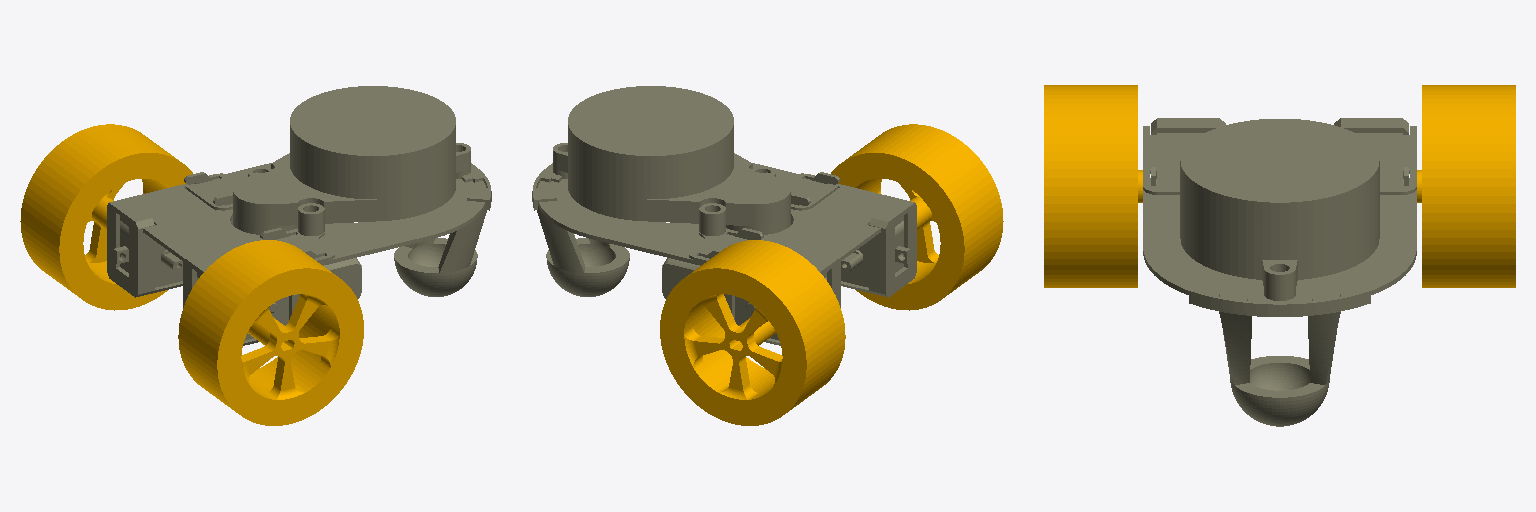
The robot description file, URDF, robot "little red rover":
<robot name="little red rover">
<link name="base_link"></link>
<joint name="base_link_to_base" type="fixed">
<parent link="base_link"/>
<child link="robot_body" />
<origin rpy="0.0 0 0" xyz="0 0 0"/>
</joint>
<link name="robot_body">
<collision>
<origin xyz="0.086199999999999998845 0 0.0013000000000000018919" rpy="5.9164567891575902922e-31 6.1629758220391558245e-32 -3.141592653589793116" />
<geometry>
<mesh filename="package://little_red_rover/description/rover/skid.stl"/>
</geometry>
</collision>
<collision>
<origin xyz="0.011300000000000209183 0.027499999999999965444 -0.013199999999999803904" rpy="9.992007221626410836e-16 -1.570796326794896336 0" />
<geometry>
<mesh filename="package://little_red_rover/description/rover/tt_motor_mount.stl"/>
</geometry>
</collision>
<collision>
<origin xyz="0.086199999999999998845 0 0.0025999999999999990133" rpy="-3.141592653589793116 6.1629758220391558245e-32 -3.141592653589793116" />
<geometry>
<mesh filename="package://little_red_rover/description/rover/motor_attachment_shim.stl"/>
</geometry>
</collision>
<collision>
<origin xyz="0.011199999999999940906 0.027499999999999948097 -0.013199999999999987785" rpy="4.8461212225579072311e-32 -1.570796326794896558 0" />
<geometry>
<mesh filename="package://little_red_rover/description/rover/motor_mount_shim.stl"/>
</geometry>
</collision>
<collision>
<origin xyz="0.086199999999999998845 0 0.0016000000000000000767" rpy="5.9164567891575902922e-31 6.1629758220391558245e-32 -3.141592653589793116" />
<geometry>
<mesh filename="package://little_red_rover/description/rover/lidar_motor.stl"/>
</geometry>
</collision>
<collision>
<origin xyz="0.086199999999999998845 0 0.0016000000000000000767" rpy="5.9164567891575902922e-31 6.1629758220391558245e-32 -3.141592653589793116" />
<geometry>
<mesh filename="package://little_red_rover/description/rover/pcb.stl"/>
</geometry>
</collision>
<collision>
<origin xyz="0.086199999999999998845 0 0.0016000000000000000767" rpy="5.9164567891575902922e-31 6.1629758220391558245e-32 -3.141592653589793116" />
<geometry>
<mesh filename="package://little_red_rover/description/rover/lidar_top.stl"/>
</geometry>
</collision>
<collision>
<origin xyz="0.011199999999999783046 -0.027499999999999861361 -0.0132000000000004232" rpy="4.8461212225578935465e-32 -1.570796326794896558 0" />
<geometry>
<mesh filename="package://little_red_rover/description/rover/motor_mount_shim.stl"/>
</geometry>
</collision>
<collision>
<origin xyz="0.086199999999999998845 0 0.0016000000000000000767" rpy="5.9164567891575902922e-31 6.1629758220391558245e-32 -3.141592653589793116" />
<geometry>
<mesh filename="package://little_red_rover/description/rover/motor_attachment_shim.stl"/>
</geometry>
</collision>
<collision>
<origin xyz="0.011299999999999740807 -0.02750000000000005565 -0.013200000000000180339" rpy="-6.5919492087118649866e-16 -1.5707963267948958919 0" />
<geometry>
<mesh filename="package://little_red_rover/description/rover/tt_motor_mount.stl"/>
</geometry>
</collision>
<collision>
<origin xyz="0.011199999999999940906 0.027499999999999948097 -0.013199999999999987785" rpy="3.141592653589793116 1.570796326794896558 0" />
<geometry>
<mesh filename="package://little_red_rover/description/rover/tt_motor_3777_v10.stl"/>
</geometry>
</collision>
<collision>
<origin xyz="0.011199999999999940906 0.027499999999999948097 -0.013199999999999987785" rpy="3.141592653589793116 1.570796326794896558 0" />
<geometry>
<mesh filename="package://little_red_rover/description/rover/tt_motor_3777_v10.stl"/>
</geometry>
</collision>
<collision>
<origin xyz="0.011199999999999940906 0.027499999999999948097 -0.013199999999999987785" rpy="3.141592653589793116 1.570796326794896558 0" />
<geometry>
<mesh filename="package://little_red_rover/description/rover/tt_motor_3777_v10.stl"/>
</geometry>
</collision>
<collision>
<origin xyz="0.011199999999999940906 0.027499999999999948097 -0.013199999999999987785" rpy="3.141592653589793116 1.570796326794896558 0" />
<geometry>
<mesh filename="package://little_red_rover/description/rover/tt_motor_3777_v10.stl"/>
</geometry>
</collision>
<collision>
<origin xyz="0.011199999999999940906 0.027499999999999948097 -0.013199999999999987785" rpy="3.141592653589793116 1.570796326794896558 0" />
<geometry>
<mesh filename="package://little_red_rover/description/rover/tt_motor_3777_v10.stl"/>
</geometry>
</collision>
<collision>
<origin xyz="0.011199999999999940906 0.027499999999999948097 -0.013199999999999987785" rpy="3.141592653589793116 1.570796326794896558 0" />
<geometry>
<mesh filename="package://little_red_rover/description/rover/tt_motor_3777_v10.stl"/>
</geometry>
</collision>
<collision>
<origin xyz="0.011199999999999940906 0.027499999999999948097 -0.013199999999999987785" rpy="3.141592653589793116 1.570796326794896558 0" />
<geometry>
<mesh filename="package://little_red_rover/description/rover/tt_motor_3777_v10.stl"/>
</geometry>
</collision>
<collision>
<origin xyz="0.011199999999999940906 0.027499999999999948097 -0.013199999999999987785" rpy="3.141592653589793116 1.570796326794896558 0" />
<geometry>
<mesh filename="package://little_red_rover/description/rover/tt_motor_3777_v10.stl"/>
</geometry>
</collision>
<collision>
<origin xyz="0.011199999999999583553 -0.027500000000000041772 -0.013200000000000263606" rpy="4.8461212225578935465e-32 -1.570796326794896558 0" />
<geometry>
<mesh filename="package://little_red_rover/description/rover/tt_motor_3777_v10.stl"/>
</geometry>
</collision>
<collision>
<origin xyz="0.011199999999999583553 -0.027500000000000041772 -0.013200000000000263606" rpy="4.8461212225578935465e-32 -1.570796326794896558 0" />
<geometry>
<mesh filename="package://little_red_rover/description/rover/tt_motor_3777_v10.stl"/>
</geometry>
</collision>
<collision>
<origin xyz="0.011199999999999583553 -0.027500000000000041772 -0.013200000000000263606" rpy="4.8461212225578935465e-32 -1.570796326794896558 0" />
<geometry>
<mesh filename="package://little_red_rover/description/rover/tt_motor_3777_v10.stl"/>
</geometry>
</collision>
<collision>
<origin xyz="0.011199999999999583553 -0.027500000000000041772 -0.013200000000000263606" rpy="4.8461212225578935465e-32 -1.570796326794896558 0" />
<geometry>
<mesh filename="package://little_red_rover/description/rover/tt_motor_3777_v10.stl"/>
</geometry>
</collision>
<collision>
<origin xyz="0.011199999999999583553 -0.027500000000000041772 -0.013200000000000263606" rpy="4.8461212225578935465e-32 -1.570796326794896558 0" />
<geometry>
<mesh filename="package://little_red_rover/description/rover/tt_motor_3777_v10.stl"/>
</geometry>
</collision>
<collision>
<origin xyz="0.011199999999999583553 -0.027500000000000041772 -0.013200000000000263606" rpy="4.8461212225578935465e-32 -1.570796326794896558 0" />
<geometry>
<mesh filename="package://little_red_rover/description/rover/tt_motor_3777_v10.stl"/>
</geometry>
</collision>
<collision>
<origin xyz="0.011199999999999583553 -0.027500000000000041772 -0.013200000000000263606" rpy="4.8461212225578935465e-32 -1.570796326794896558 0" />
<geometry>
<mesh filename="package://little_red_rover/description/rover/tt_motor_3777_v10.stl"/>
</geometry>
</collision>
<collision>
<origin xyz="0.011199999999999583553 -0.027500000000000041772 -0.013200000000000263606" rpy="4.8461212225578935465e-32 -1.570796326794896558 0" />
<geometry>
<mesh filename="package://little_red_rover/description/rover/tt_motor_3777_v10.stl"/>
</geometry>
</collision>
<visual>
<origin xyz="0 0 0" rpy="0 -0 0" />
<geometry>
<mesh filename="package://little_red_rover/description/rover/robot_body_visual.stl"/>
</geometry>
<material name="robot_body_material">
<color rgba="0.54600512915027976657 0.54055055757933434535 0.45074002316652145295 1.0"/>
</material>
</visual>
<inertial>
<origin xyz="0.060471831748332982581 7.7454997493527447951e-07 0.00096954825740216531854" rpy="0 0 0"/>
<mass value="0.2009726460542947124" />
<inertia ixx="0.00013869360392620598207" ixy="8.9644321589152596802e-09"  ixz="-4.8027734112456350207e-05" iyy="0.00028503969796307346545" iyz="1.8759790497015855734e-09" izz="0.00031681588396518487209" />
</inertial>
</link>

<link name="lidar">
<inertial>
<origin xyz="0 0 0" rpy="0 0 0" />
<mass value="1e-9" />
<inertia ixx="0" ixy="0" ixz="0" iyy="0" iyz="0" izz="0" />
</inertial>
</link>
<joint name="lidar_frame" type="fixed">
<origin xyz="0.086200000000000123745 -1.3877787807814456755e-17 0.021884999999999994735" rpy="-3.141592653589793116 -3.2417252823925967892e-30 -3.141592653589793116" />
<parent link="robot_body" />
<child link="lidar" />
<axis xyz="0 0 0"/>
</joint>

<link name="base_footprint">
<inertial>
<origin xyz="0 0 0" rpy="0 0 0" />
<mass value="1e-9" />
<inertia ixx="0" ixy="0" ixz="0" iyy="0" iyz="0" izz="0" />
</inertial>
</link>
<joint name="base_footprint_frame" type="fixed">
<origin xyz="0.011199999999999710187 0 -0.043680000000000086813" rpy="-5.9164567891575902922e-31 -6.1629758220391558245e-32 4.8461212225578935465e-32" />
<parent link="robot_body" />
<child link="base_footprint" />
<axis xyz="0 0 0"/>
</joint>

<link name="wheel">
<collision>
<origin xyz="0 3.4694469519536141888e-18 0.029940000000000015212" rpy="3.141592653589793116 1.2233992452160792469e-45 3.141592653589793116" />
<geometry>
<mesh filename="package://little_red_rover/description/rover/wheel.stl"/>
</geometry>
</collision>
<visual>
<origin xyz="0 0 0" rpy="0 -0 0" />
<geometry>
<mesh filename="package://little_red_rover/description/rover/wheel_visual.stl"/>
</geometry>
<material name="wheel_material">
<color rgba="0.98039215686274505668 0.71372549019607844922 0.0039215686274509803377 1.0"/>
</material>
</visual>
<inertial>
<origin xyz="2.2758078713237790522e-17 5.2846679174213358489e-17 0.016300136674048160829" rpy="0 0 0"/>
<mass value="0.060465499993623508801" />
<inertia ixx="2.3167276380112820092e-05" ixy="-3.9569895874683503507e-41"  ixz="2.8342828437142326122e-50" iyy="2.3166562982068070122e-05" iyz="5.7109987015281717128e-37" izz="3.8318422821940757413e-05" />
</inertial>
</link>

<joint name="wheel_left" type="continuous">
<origin xyz="0.011199999999999940906 0.040799999999999940481 -0.013199999999999989519" rpy="-1.570796326794896558 1.1379786002410102793e-15 -8.3508322388608672319e-30" />
<parent link="robot_body" />
<child link="wheel" />
<axis xyz="0 0 1"/>
<limit effort="1" velocity="20" />
<joint_properties friction="0.0"/>
</joint>

<link name="wheel_2">
<collision>
<origin xyz="0 3.4694469519536141888e-18 -0.029940000000000022151" rpy="-1.3137173103045198934e-46 1.0760550723461240521e-47 -1.313717310304516004e-45" />
<geometry>
<mesh filename="package://little_red_rover/description/rover/wheel.stl"/>
</geometry>
</collision>
<visual>
<origin xyz="0 0 0" rpy="0 -0 0" />
<geometry>
<mesh filename="package://little_red_rover/description/rover/wheel_2_visual.stl"/>
</geometry>
<material name="wheel_2_material">
<color rgba="0.98039215686274505668 0.71372549019607844922 0.0039215686274509803377 1.0"/>
</material>
</visual>
<inertial>
<origin xyz="-2.2758078713237790522e-17 5.2846679174213358489e-17 -0.016300136674048167768" rpy="0 0 0"/>
<mass value="0.060465499993623508801" />
<inertia ixx="2.3167276380112820092e-05" ixy="-6.0869566822965798449e-50"  ixz="-6.6161998503117786977e-52" iyy="2.3166562982068070122e-05" iyz="-8.0773890174553915328e-51" izz="3.8318422821940757413e-05" />
</inertial>
</link>

<joint name="wheel_right" type="continuous">
<origin xyz="0.011199999999999583553 -0.040800000000000023748 -0.013200000000000263606" rpy="-1.570796326794896558 -1.9327092177914794838e-29 4.4289166483876419747e-31" />
<parent link="robot_body" />
<child link="wheel_2" />
<axis xyz="0 0 1"/>
<limit effort="1" velocity="20" />
<joint_properties friction="0.0"/>
</joint>


</robot>

--- Render facts (derived) ---
3 views of the same robot in one strip: view 1: azimuth 30°, elevation 25°; view 2: azimuth 150°, elevation 25°; view 3: azimuth 270°, elevation 25° (orthographic).
Model little red rover with 6 links and 5 joints (2 continuous, 3 fixed), rooted at base_link, posed every joint at zero.
Visible links, largest first — view 1: robot_body, wheel_2, wheel; view 2: robot_body, wheel, wheel_2; view 3: robot_body, wheel, wheel_2.
Boxes of the visible links, x1,y1,x2,y2 form: robot_body: [107, 86, 491, 345]; wheel_2: [178, 240, 363, 425]; wheel: [20, 124, 192, 310]; robot_body: [532, 86, 916, 345]; wheel: [660, 240, 845, 425]; wheel_2: [831, 124, 1003, 310]; robot_body: [1143, 118, 1416, 426]; wheel: [1417, 85, 1515, 287]; wheel_2: [1044, 85, 1142, 287].
Bounding box of the posed robot: 0.1481 × 0.1415 × 0.0744 m (x, y, z).
3 mesh visuals loaded from 3 distinct referenced files (3 binary STL).